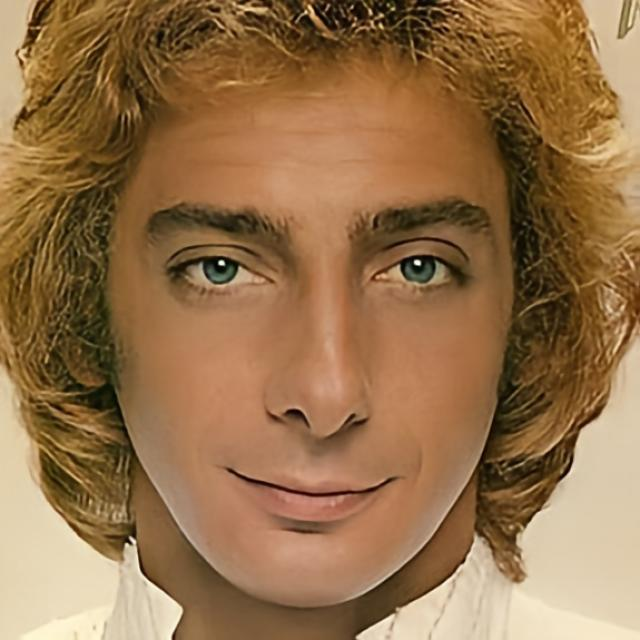content: (106, 66, 511, 609)
